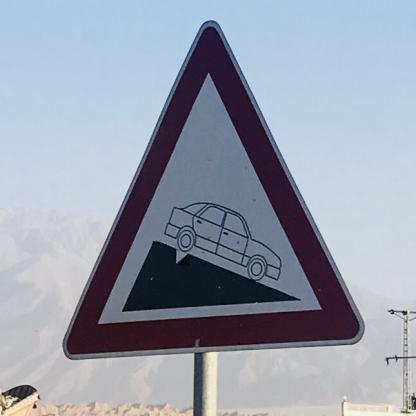Steep Descent: (62, 18, 364, 360)
